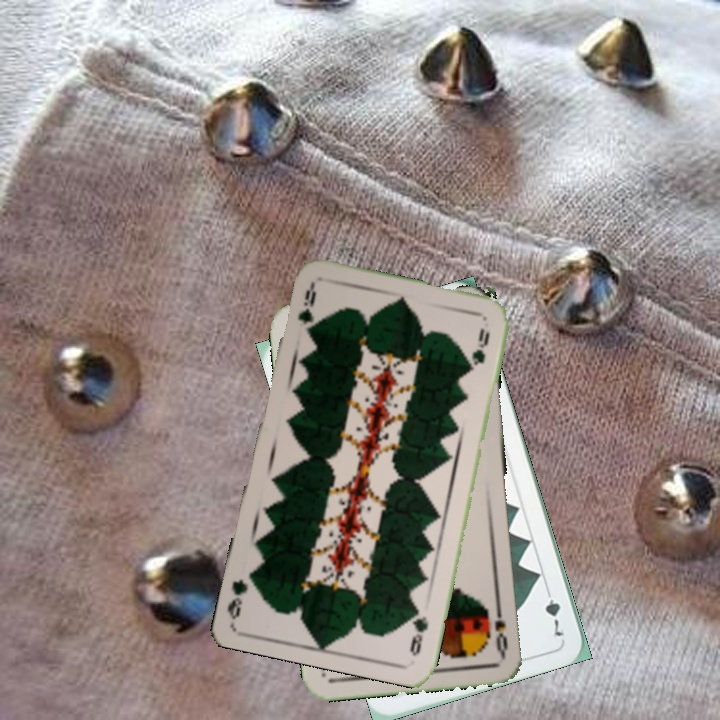G7: (541, 582, 567, 641)
G9: (293, 281, 319, 337), (406, 601, 431, 658)
SO: (490, 599, 511, 658)
